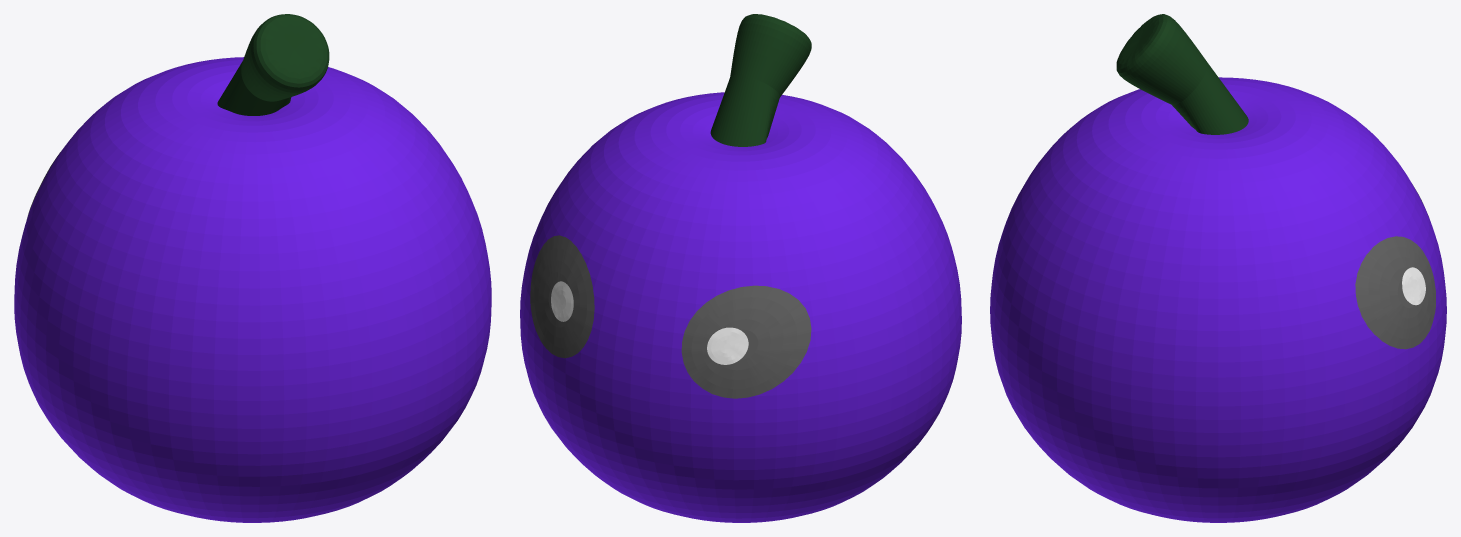
Rendered from New Slime Eyes.fbx.
The picture shows the model from 3 angles, left to right: view 1: azimuth 30°, elevation 25°; view 2: azimuth 150°, elevation 25°; view 3: azimuth 270°, elevation 25°; orthographic projection. The views are drawn at different scales.
Parts seen in each view (by area): view 1: Body, Tip; view 2: Body, Extra eyes, Tip; view 3: Body, Tip, Extra eyes.
Part boxes in pixels (x1,y1,x2,y2): Body: (14, 57, 491, 522); Tip: (217, 14, 329, 115); Body: (520, 92, 961, 522); Extra eyes: (530, 235, 811, 398); Tip: (710, 14, 811, 146); Body: (990, 77, 1446, 522); Tip: (1116, 14, 1248, 134); Extra eyes: (1355, 184, 1435, 349).
Bounding box in the file's own units: 405 × 456 × 405.
